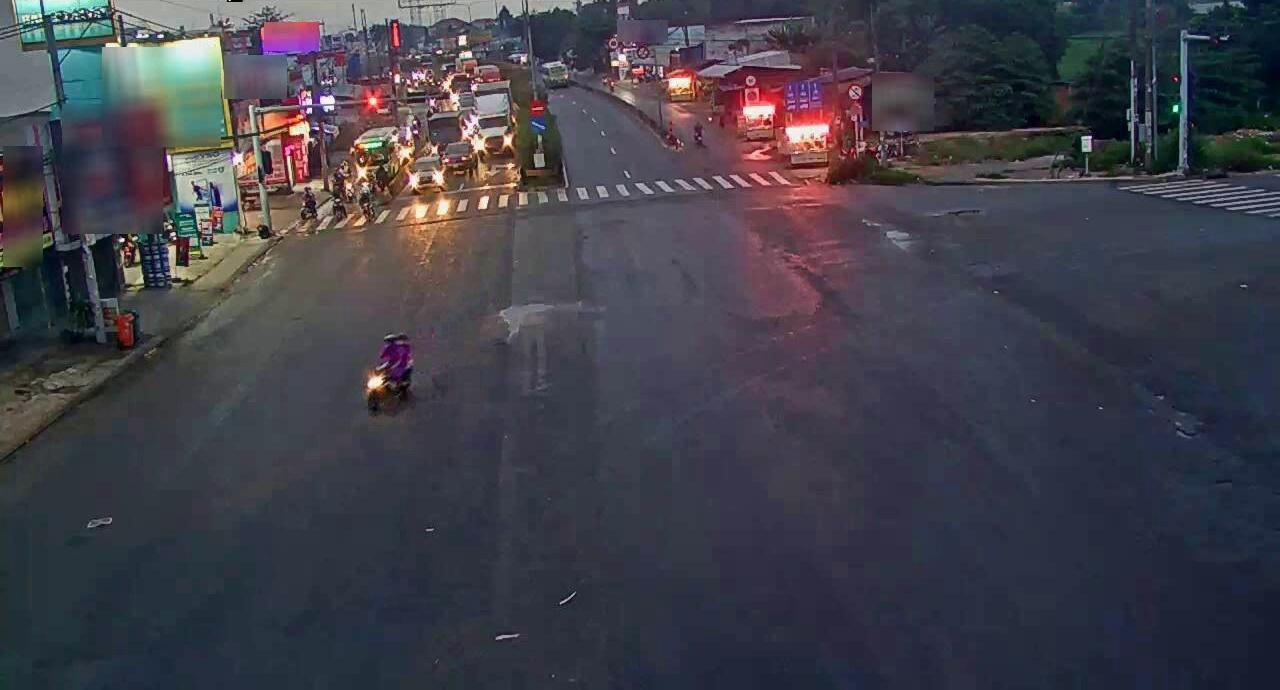xe may: (360, 326, 419, 412)
